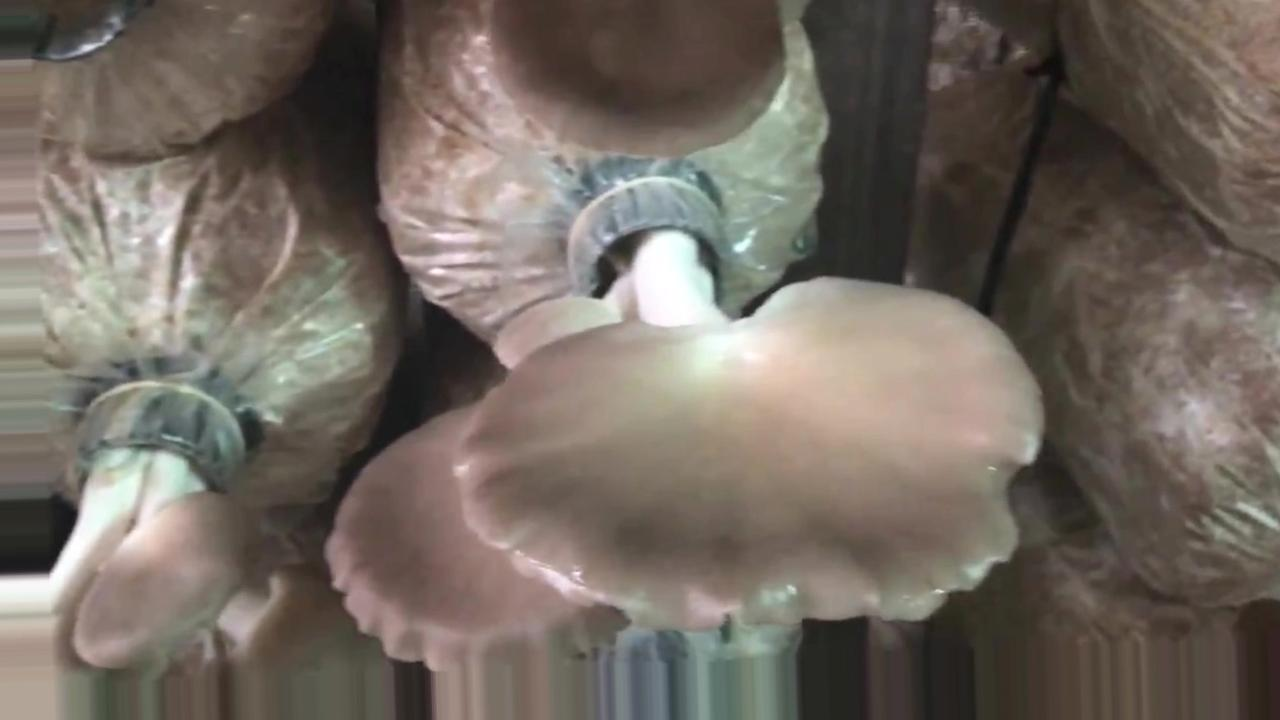nam: (459, 174, 1049, 637), (1, 374, 260, 716), (324, 399, 635, 675), (488, 2, 789, 159)
